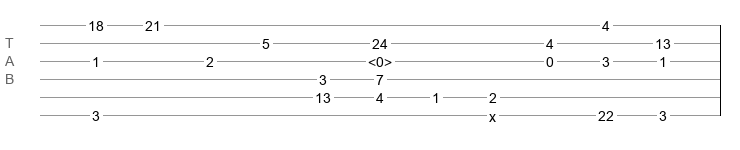0: (546, 54, 554, 64)
1: (92, 54, 100, 64), (432, 90, 440, 100), (659, 54, 667, 64)
13: (315, 90, 331, 100), (655, 36, 671, 46)
18: (88, 18, 104, 28)
2: (206, 54, 214, 64), (489, 90, 497, 100)
21: (145, 18, 161, 28)
22: (598, 108, 614, 118)
24: (372, 36, 388, 46)
3: (92, 108, 100, 118), (319, 72, 327, 82), (602, 54, 610, 64), (659, 108, 667, 118)
4: (376, 90, 384, 100), (546, 36, 554, 46), (602, 18, 610, 28)
5: (262, 36, 270, 46)
7: (376, 72, 384, 82)
harmonic: (368, 54, 392, 64)
x: (489, 109, 496, 117)
